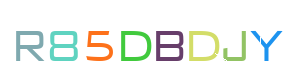5: (94, 0, 174, 80)
8: (59, 0, 139, 80)
B: (128, 0, 208, 80)
D: (111, 0, 191, 80), (153, 0, 233, 80)
J: (189, 0, 269, 80)
R: (21, 0, 101, 80)
Y: (219, 0, 299, 80)
